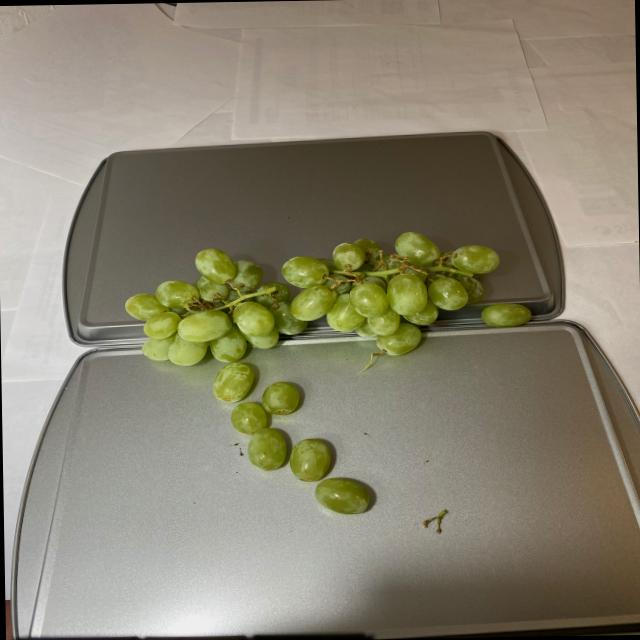grapes: (122, 226, 538, 517)
